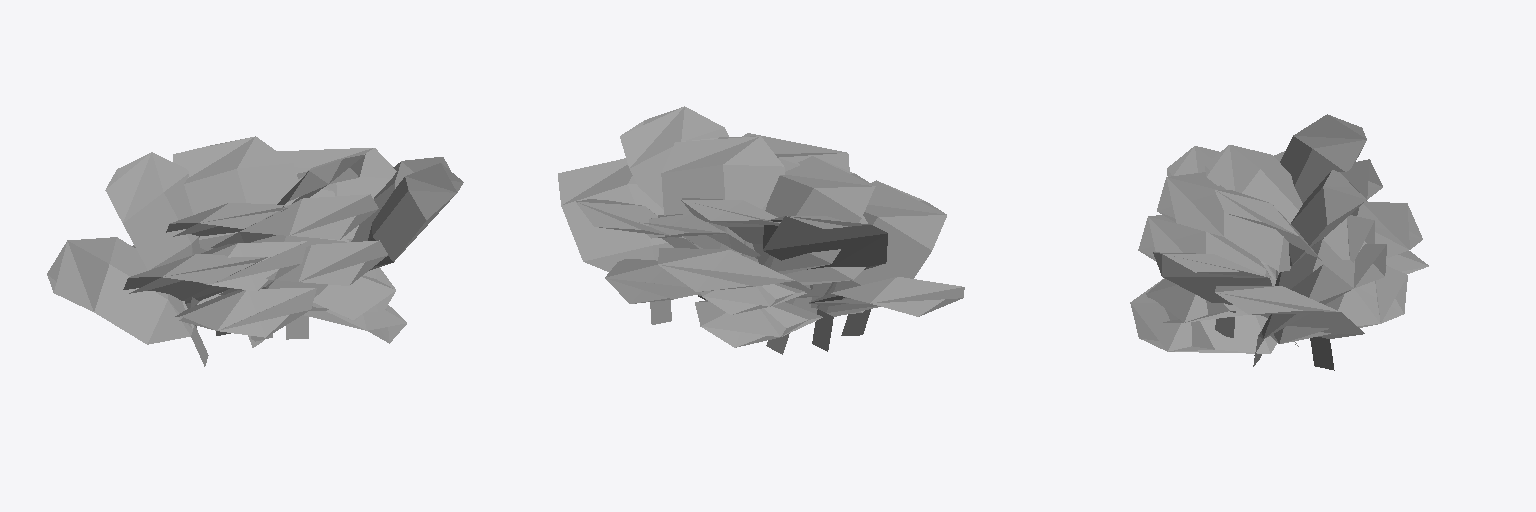
File: Phila01_blend.obj
3 renders of one model, left to right at view 1: azimuth 30°, elevation 25°; view 2: azimuth 150°, elevation 25°; view 3: azimuth 270°, elevation 25°, orthographic.
Visible parts, largest first — view 1: Phila128, Phila64; view 2: Phila128, Phila64; view 3: Phila128, Phila64.
Part boxes in pixels (bbox=[...]): Phila128: bbox=[47, 136, 463, 366]; Phila64: bbox=[54, 137, 456, 353]; Phila128: bbox=[561, 107, 962, 354]; Phila64: bbox=[558, 106, 964, 352]; Phila128: bbox=[1130, 115, 1427, 370]; Phila64: bbox=[1131, 114, 1428, 365].
Bounding box in the file's own units: 3.03 × 1.26 × 1.97.